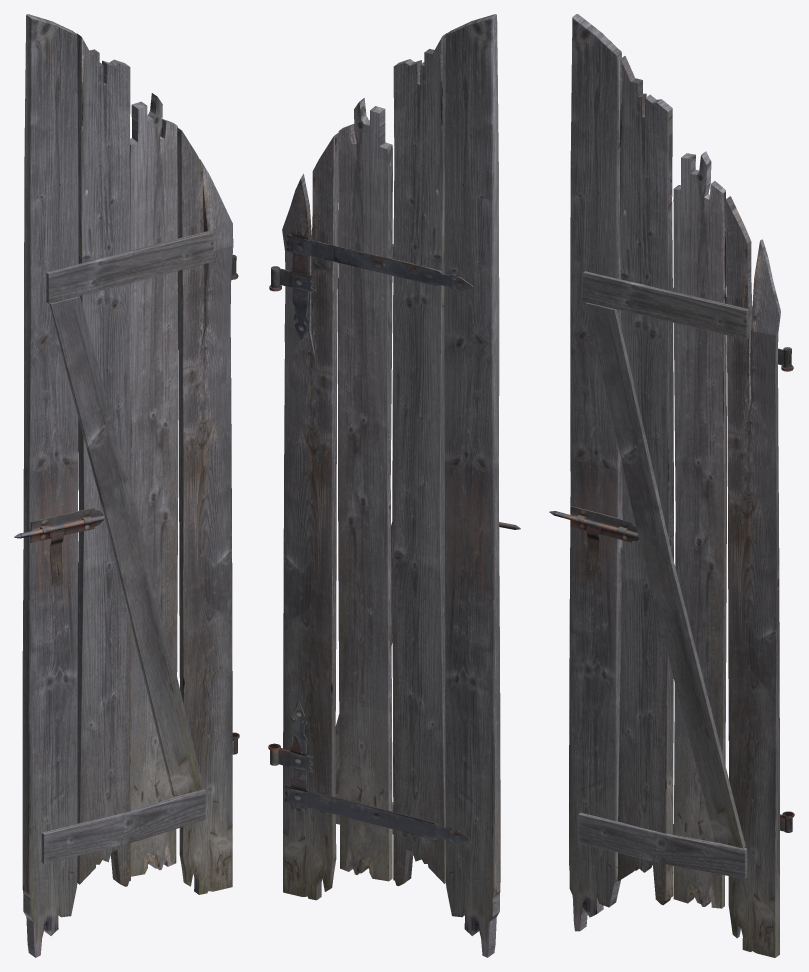
File: SM_Door_02_04.fbx
3 views of the same model, side by side, from view 1: azimuth 30°, elevation 25°; view 2: azimuth 150°, elevation 25°; view 3: azimuth 330°, elevation 25° (orthographic). The views are drawn at different scales.
Parts seen in each view (by area): view 1: sm_Door_02_04_LOD0; view 2: sm_Door_02_04_LOD0; view 3: sm_Door_02_04_LOD0.
Part boxes in pixels (x1,y1,x2,y2): sm_Door_02_04_LOD0: [14, 14, 239, 957]; sm_Door_02_04_LOD0: [268, 14, 520, 957]; sm_Door_02_04_LOD0: [549, 14, 794, 957].
Bounding box in the file's own units: 12.1 × 80.59 × 304.
